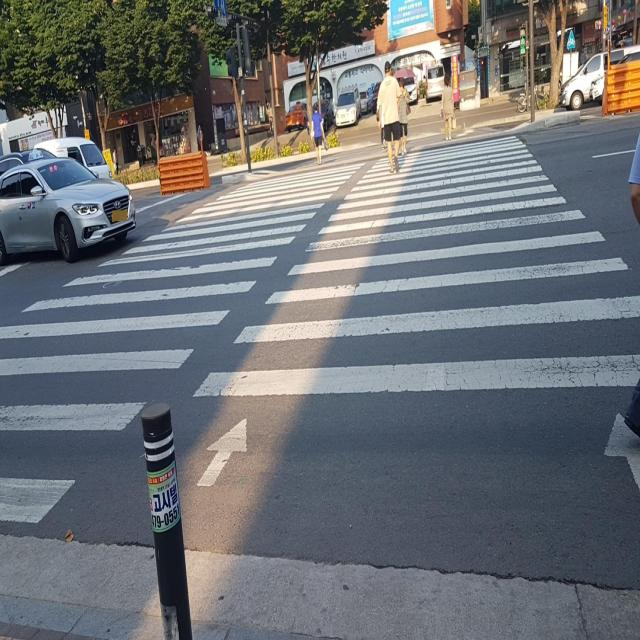초록불: (519, 25, 527, 57)
횡단보도: (0, 134, 640, 526)
